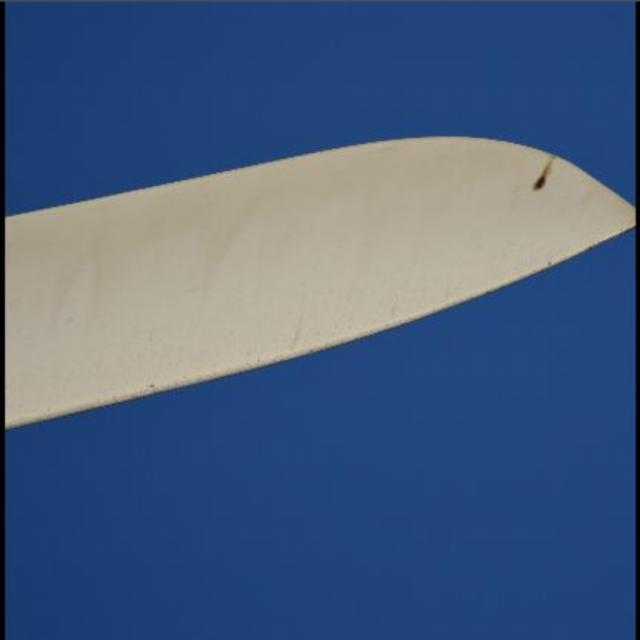Burn Mark: (532, 153, 557, 193)
